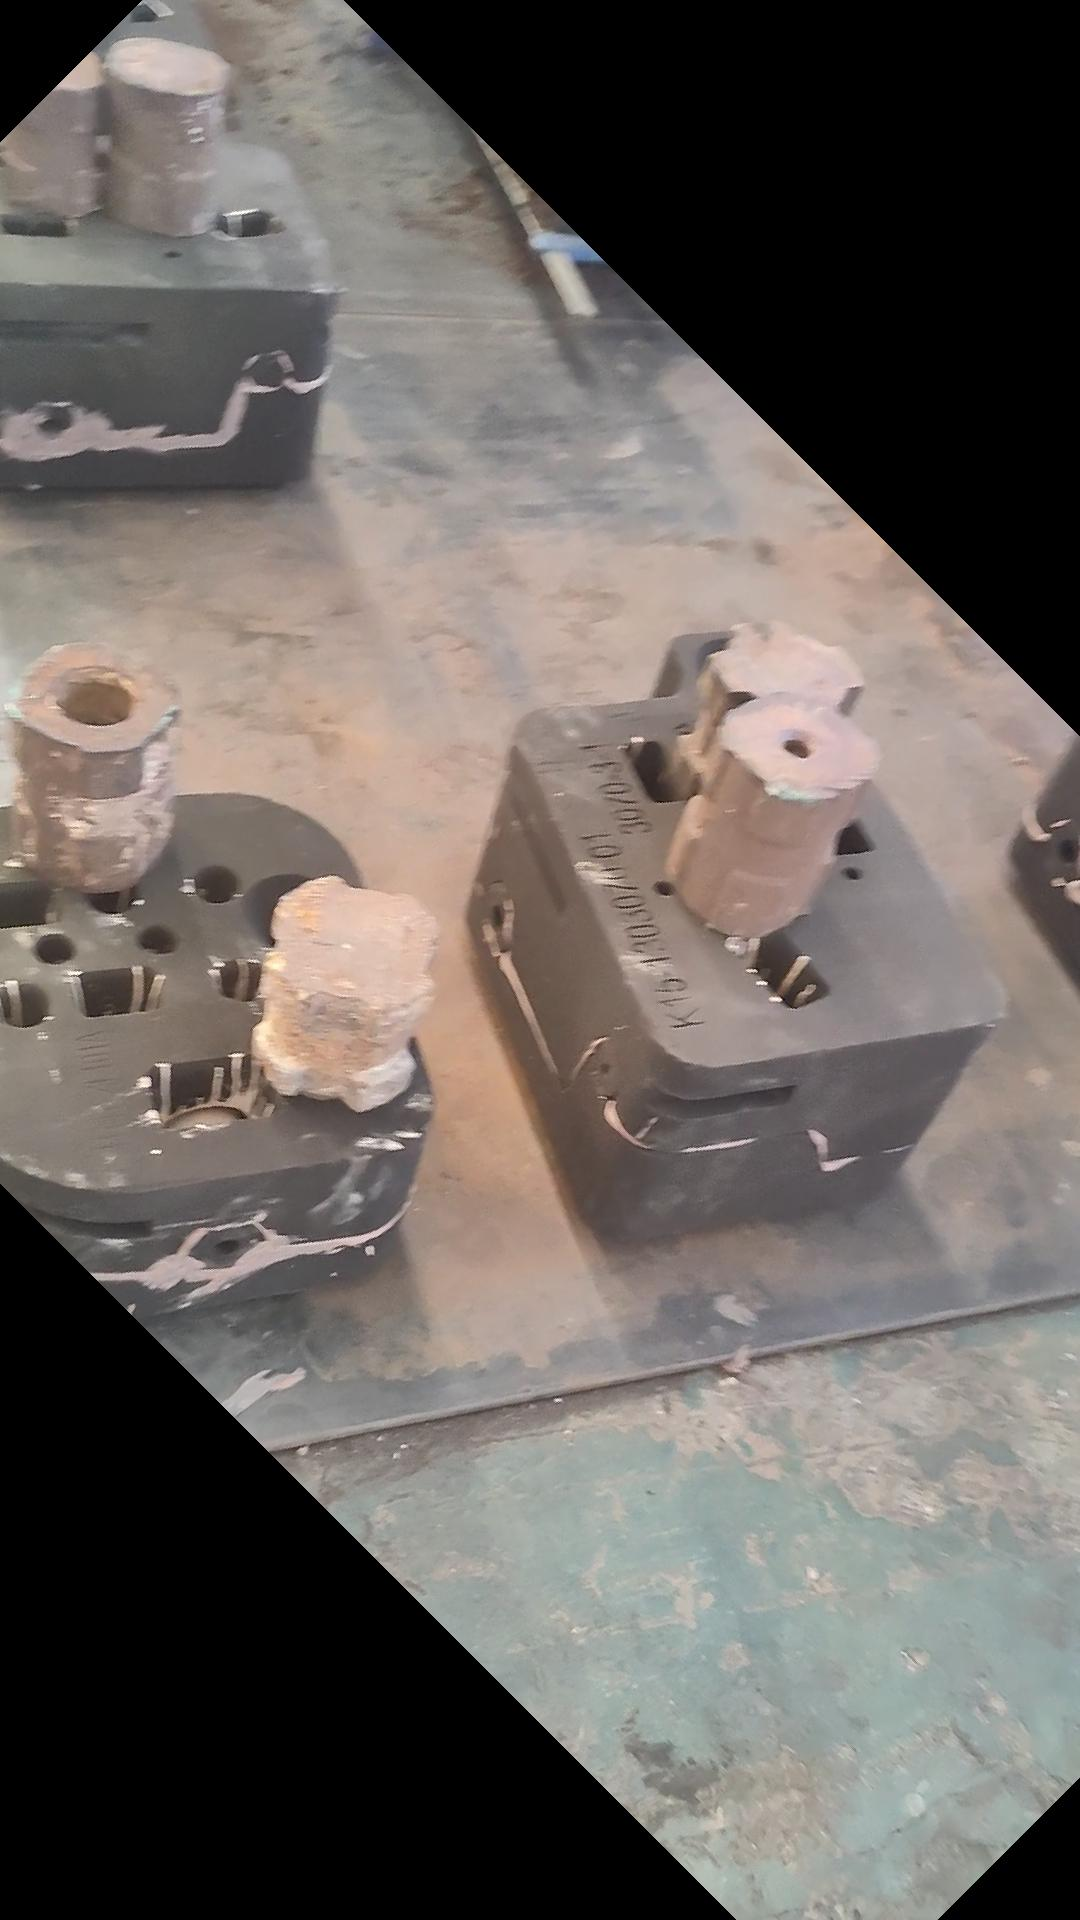pouring hole: (243, 873, 344, 952), (696, 637, 790, 708)
